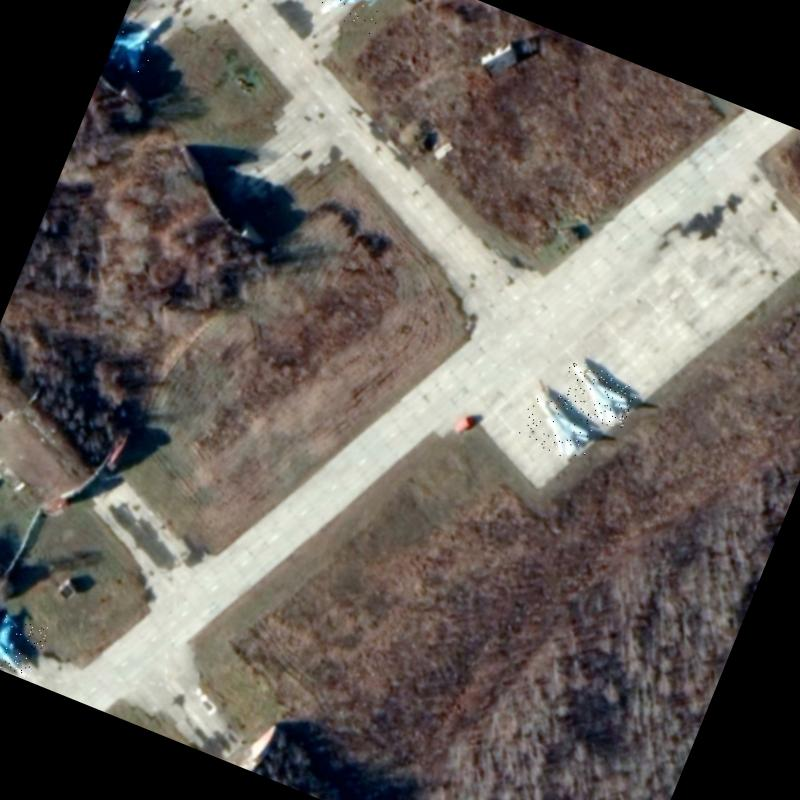A19: (105, 4, 165, 80), (0, 599, 50, 679), (316, 0, 396, 34)
A20: (515, 388, 601, 465), (554, 358, 640, 432)
